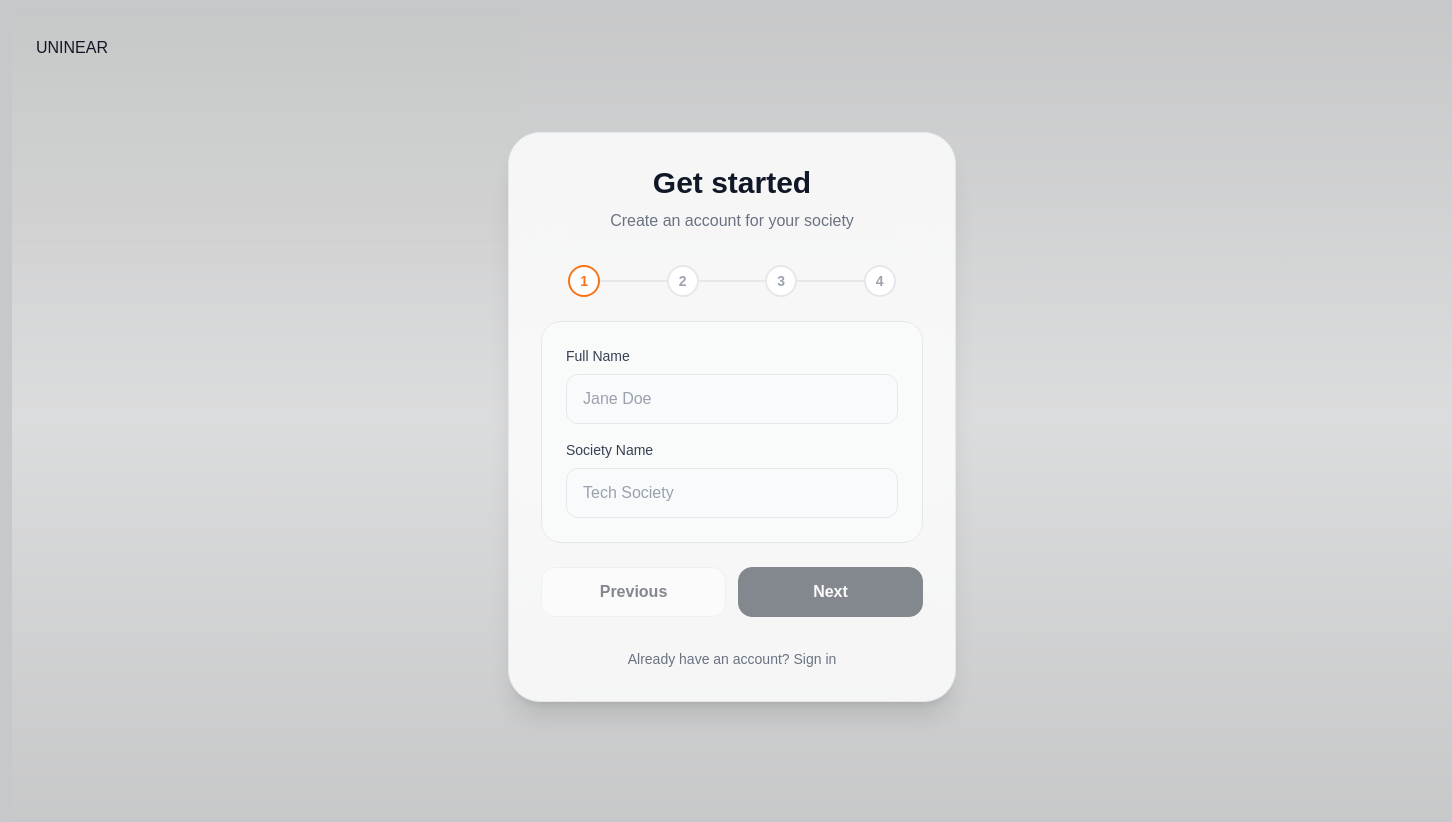
Test: test_NFR07_bath_email_validation - Signup Page › AC1: shows "Only @bath.ac.uk emails are allowed" for non-bath email
Type "Test User" into the field labelled "Full Name" at x=732, y=399, box [566, 374, 898, 424]
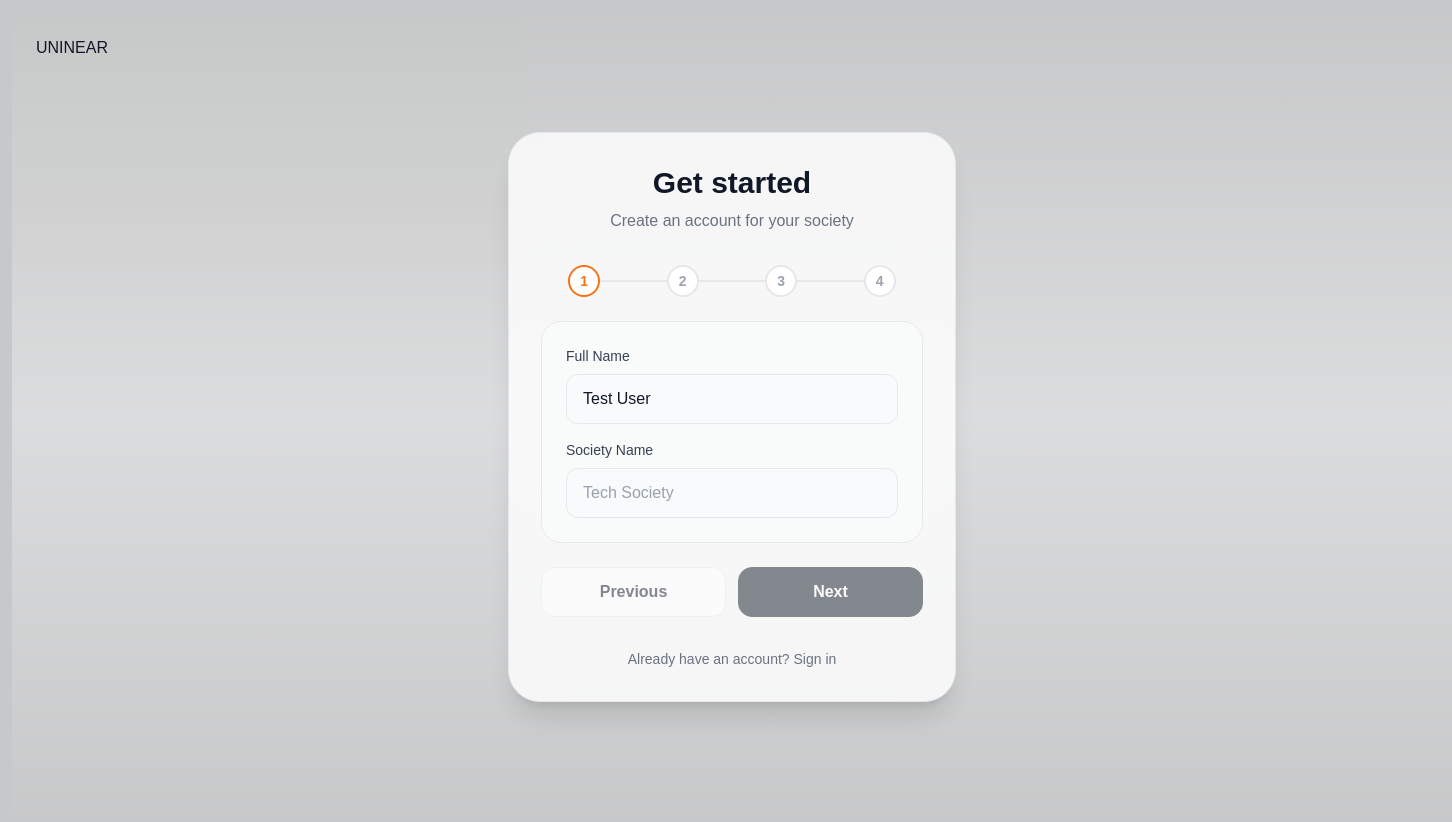
Type "Test Society" into the field labelled "Society Name" at x=732, y=493, box [566, 468, 898, 518]
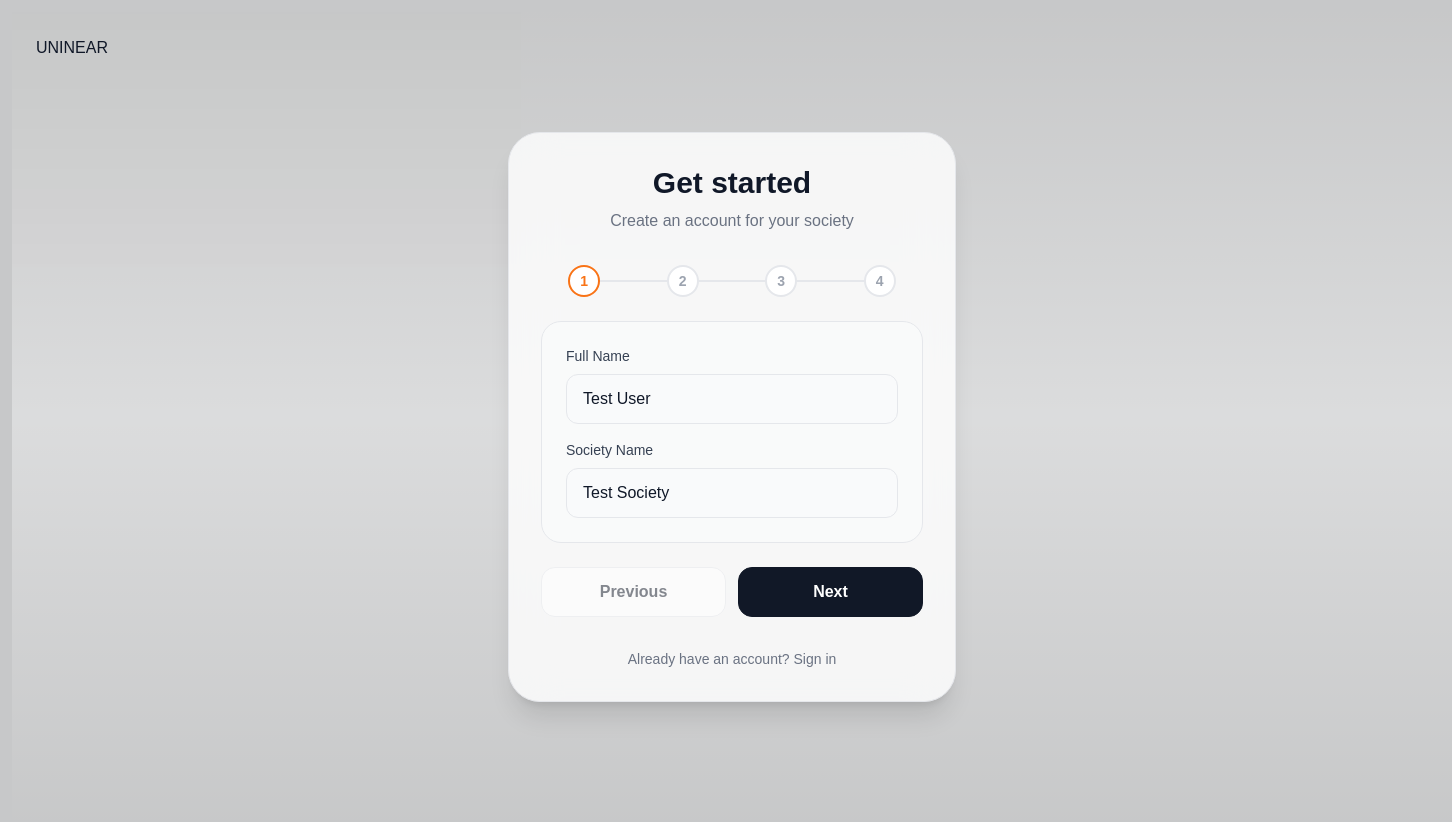
Click the button "Next" at x=830, y=592, box [738, 567, 923, 617]
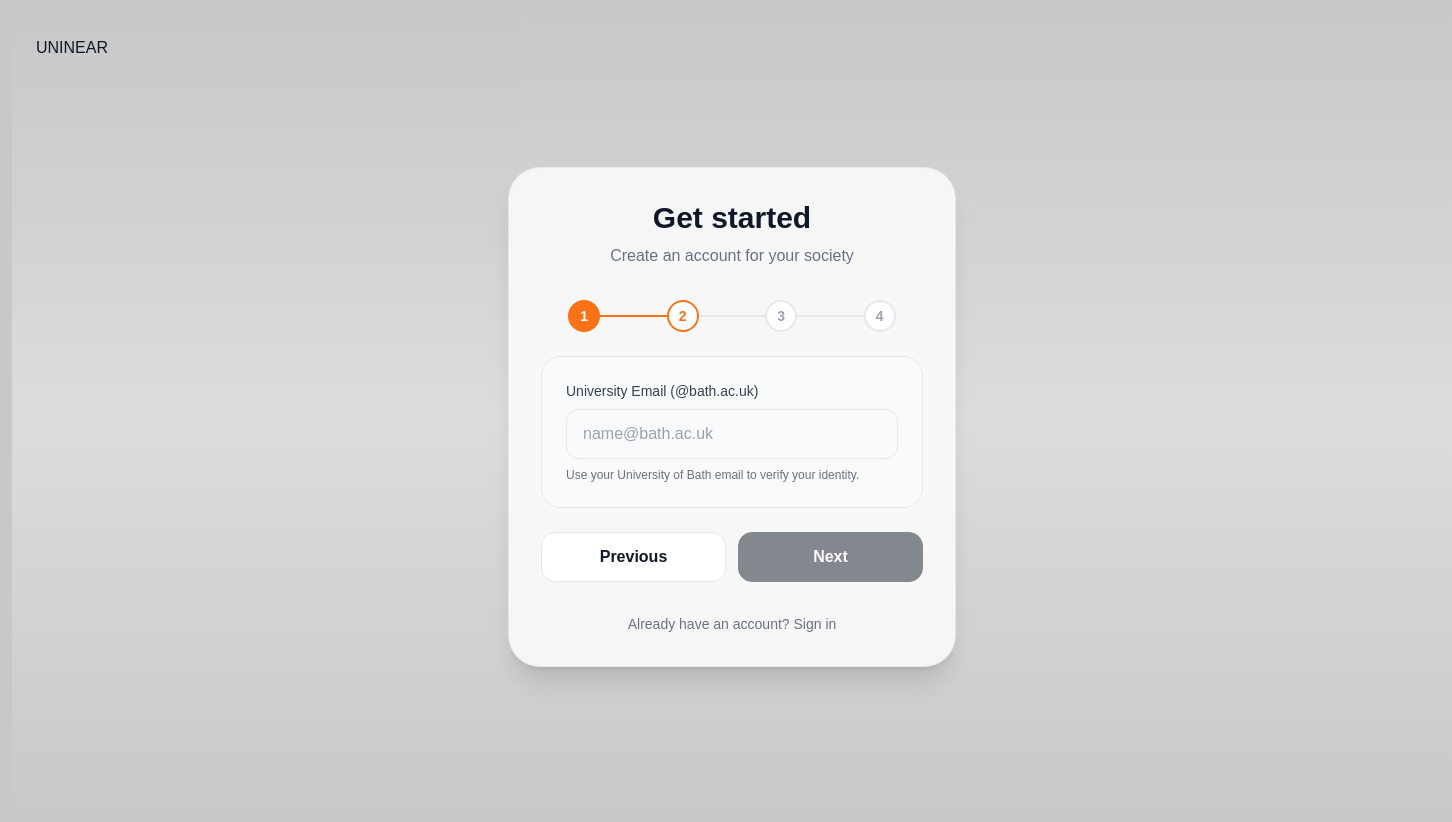
Type "user@gmail.com" into the field labelled "University Email (@bath.ac.uk)" at x=732, y=434, box [566, 409, 898, 459]
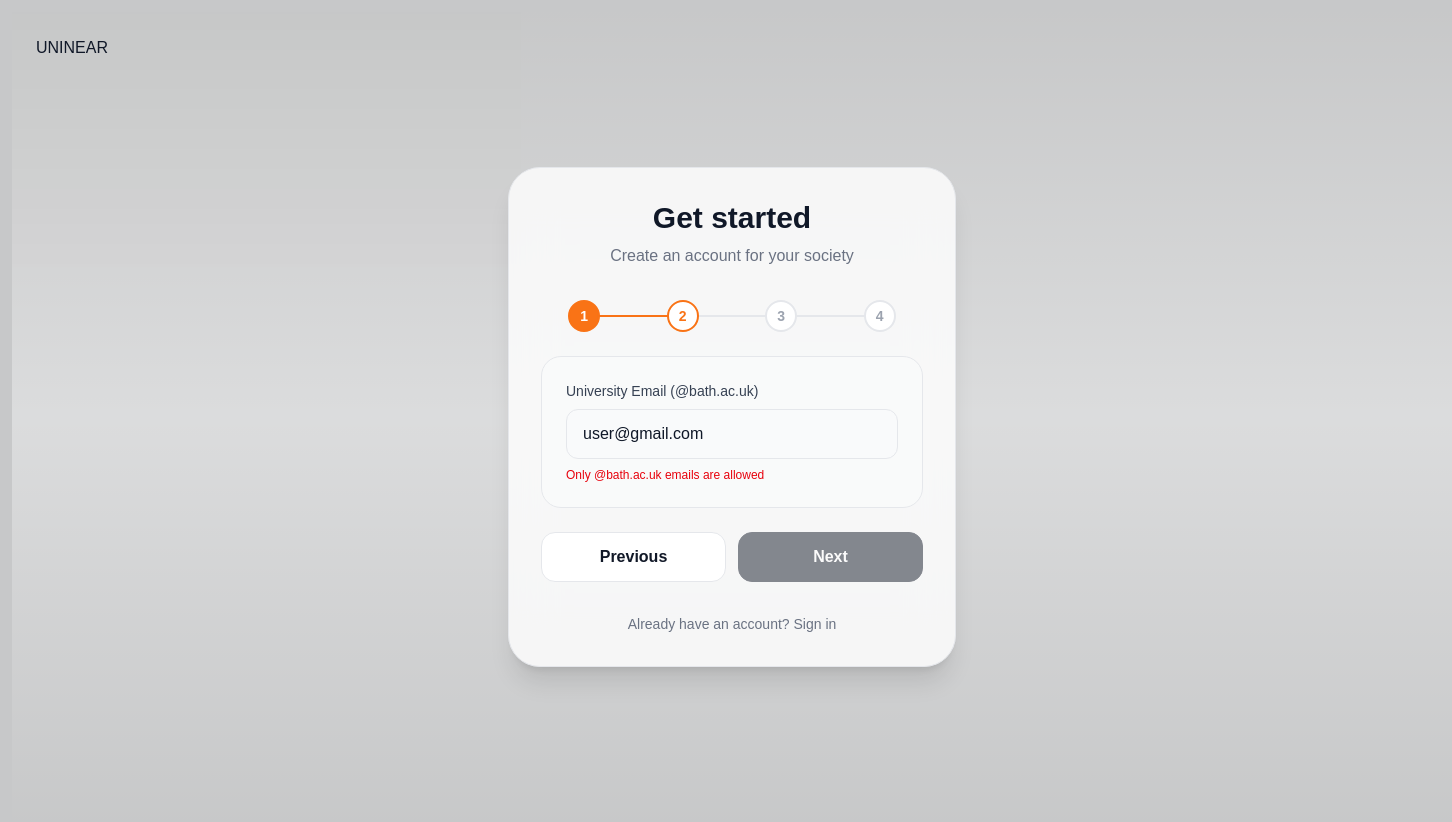
expect the text "Only @bath.ac.uk emails are allowed" is shown: met, box [566, 468, 764, 482]
